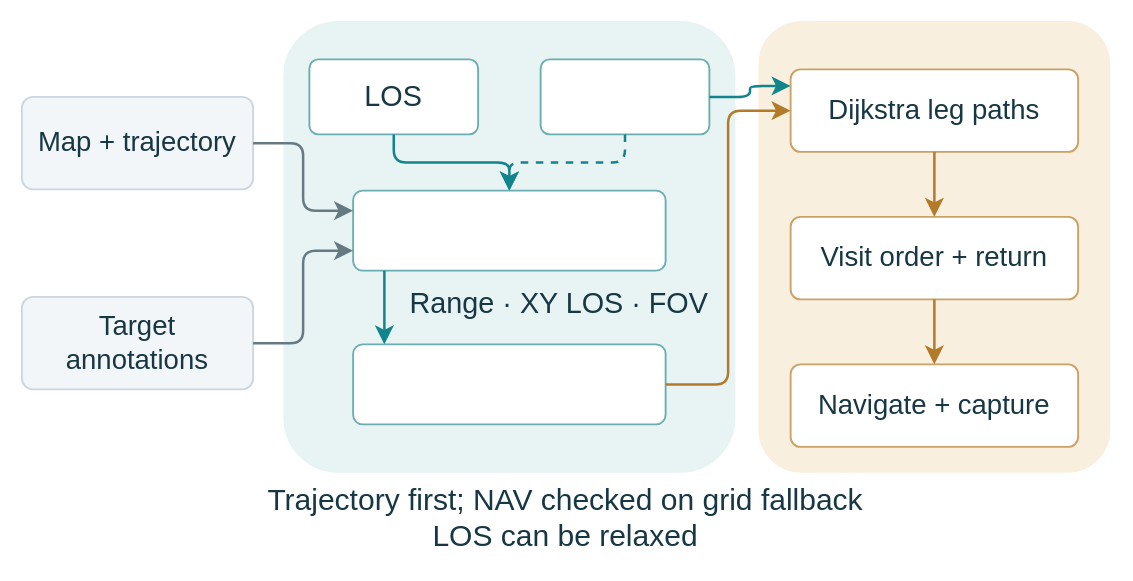
Some shapes in this 1133 by 581 pixel diagram are drawn without their labels. The box of each missing label's shape, as (x1, y1, x2, y2) in pixels:
Candidate search: (352, 189, 666, 271)
NAV: (539, 58, 710, 135)
Observation poses: (352, 343, 666, 425)
